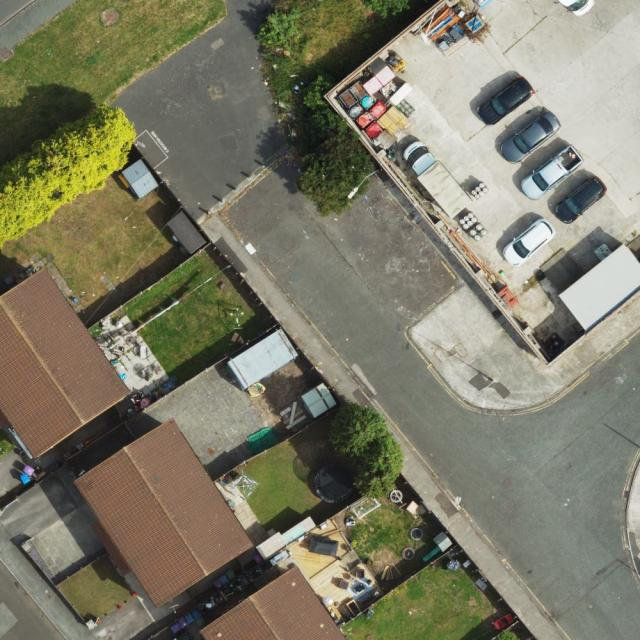roof: (80, 418, 256, 609), (0, 267, 132, 461), (200, 566, 347, 640)
